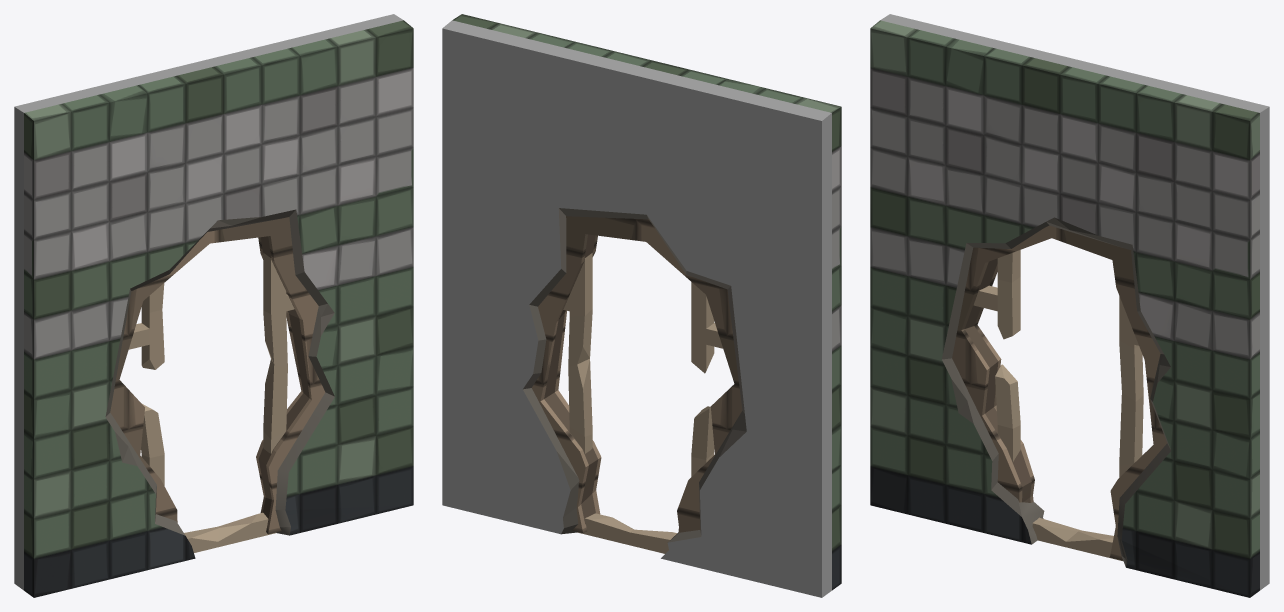
The model's file is SM_Bld_Wall_Hole_02.fbx.
3 renders of one model, left to right at view 1: azimuth 30°, elevation 25°; view 2: azimuth 150°, elevation 25°; view 3: azimuth 330°, elevation 25°, orthographic.
Parts seen in each view (by area): view 1: SM_Bld_Wall_Hole_02; view 2: SM_Bld_Wall_Hole_02; view 3: SM_Bld_Wall_Hole_02.
Part boxes in pixels (x1,y1,x2,y2): SM_Bld_Wall_Hole_02: (14,14,413,597); SM_Bld_Wall_Hole_02: (442,14,841,597); SM_Bld_Wall_Hole_02: (870,14,1269,597).
Size of the model in its own units: 250 by 301 by 22.5.
